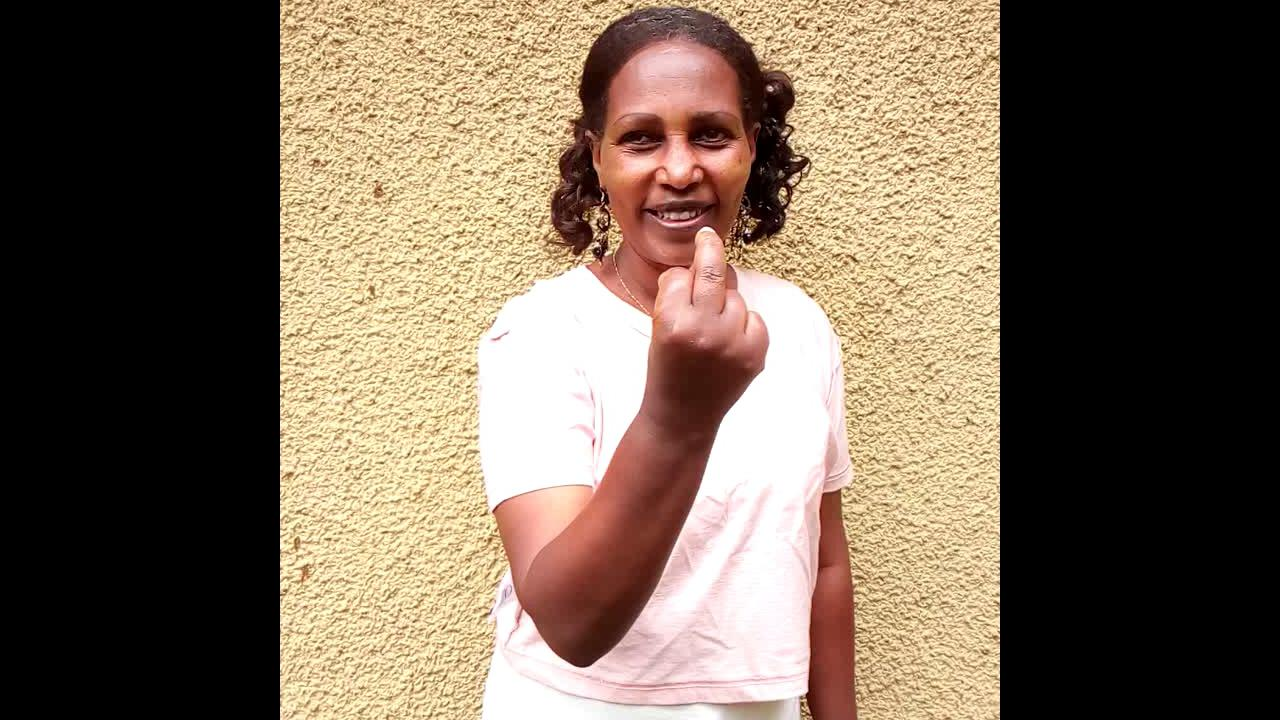CHE: (619, 229, 773, 510)
